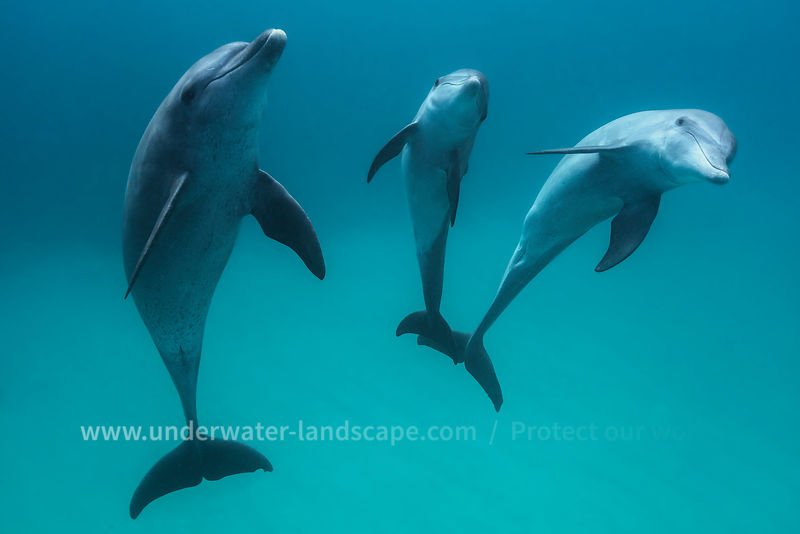dolphin: (85, 14, 340, 530), (428, 105, 739, 416), (361, 65, 502, 374)
